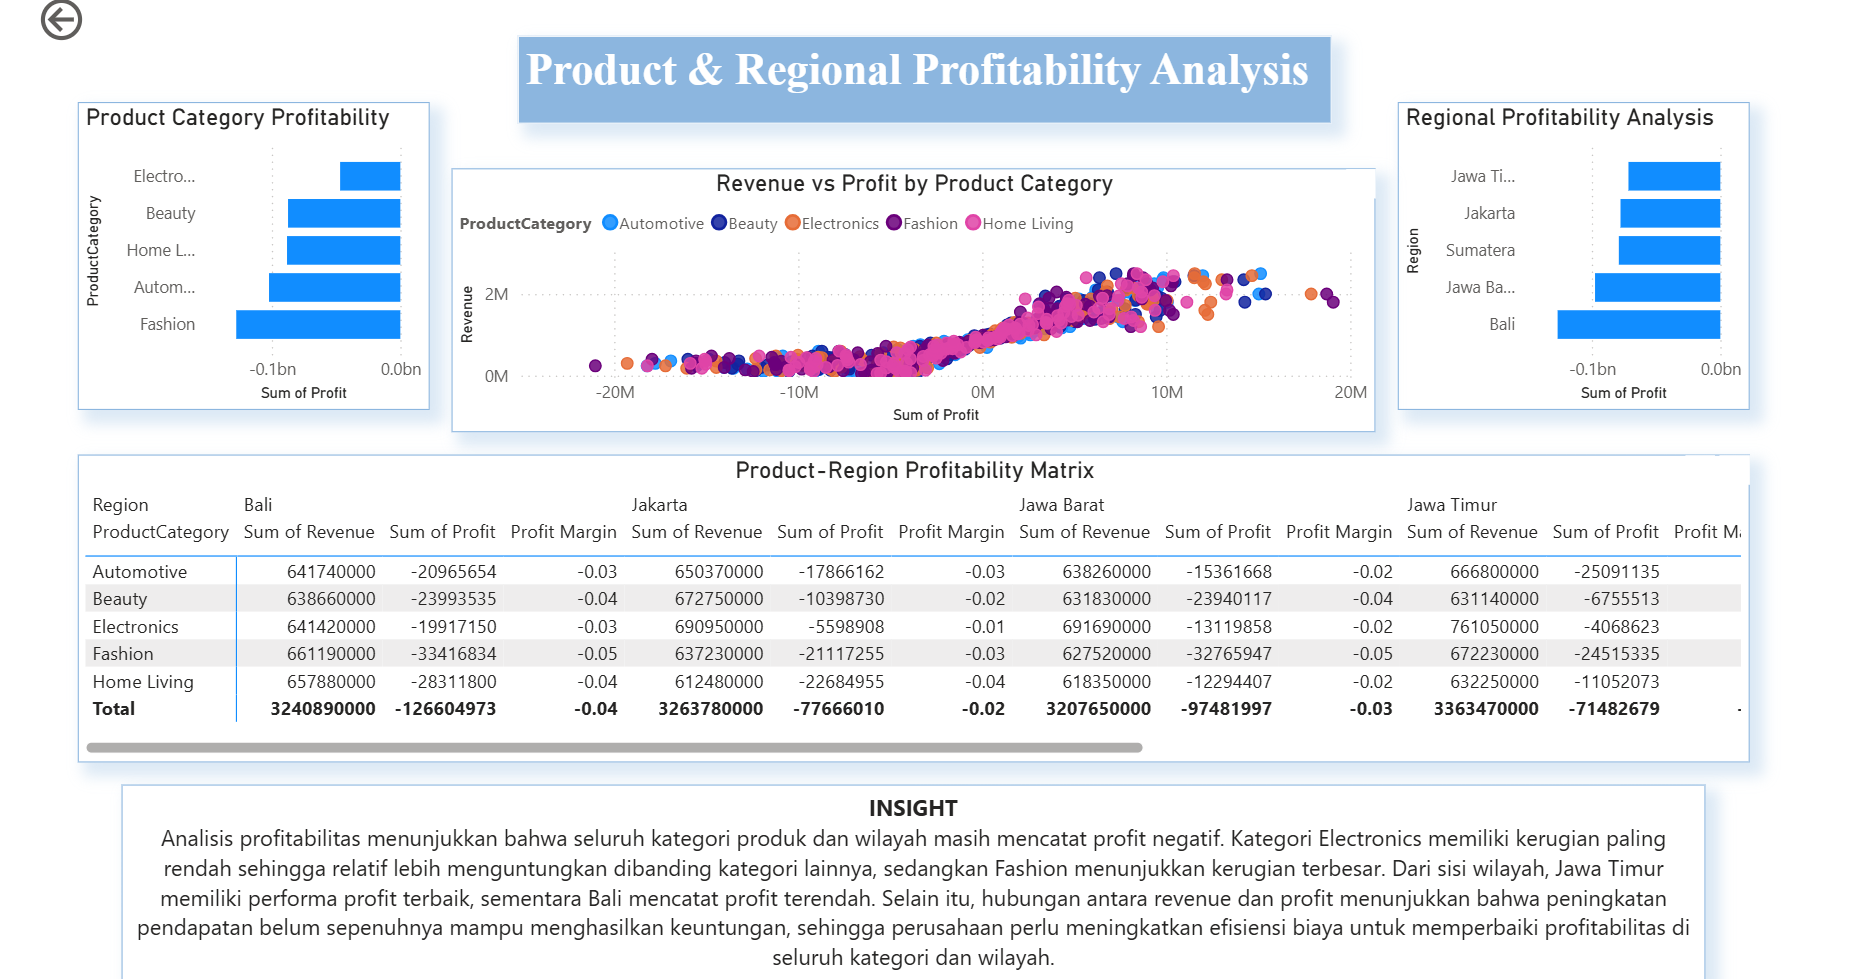

The page's visual inventory and layout, read from the dashboard file:
{"tool":"powerbi","page":{"name":"PROFITABILITY ANALYSIS","canvas":[1280,720],"ordinal":4},"visuals":[{"type":"barChart","title":"Product Category Profitability","fields":{"Category":["FINAL PROJECT.ProductCategory"],"Y":["Sum(FINAL PROJECT.Profit)"]},"box":[32,80,256,224],"z":0},{"type":"barChart","title":"Regional Profitability Analysis","fields":{"Category":["FINAL PROJECT.Region"],"Y":["Sum(FINAL PROJECT.Profit)"]},"box":[992,80,256,224],"z":1000},{"type":"scatterChart","title":"Revenue vs Profit by Product Category","fields":{"X":["Sum(FINAL PROJECT.Profit)"],"Series":["FINAL PROJECT.ProductCategory"],"Y":["FINAL PROJECT.Revenue"]},"box":[304,128,672,192],"z":2000},{"type":"pivotTable","title":"Product-Region Profitability Matrix","fields":{"Rows":["FINAL PROJECT.ProductCategory"],"Columns":["FINAL PROJECT.Region"],"Values":["Sum(FINAL PROJECT.Revenue)","Sum(FINAL PROJECT.Profit)","FINAL PROJECT.Profit Margin"]},"box":[32,336,1216,224],"z":3000},{"type":"actionButton","box":[0,0,100,40],"z":4000},{"type":"textbox","box":[64,576,1152,144],"z":5000},{"type":"textbox","box":[352,32,592,64],"z":6000}]}

Visuals, with their boxes on the page's 1280x720 design canvas (x1, y1, x2, y2). These are canvas units, not pixel positions in the 1851x979 screenshot, which may show the page scaled, cropped or inside an application window:
"Product Category Profitability" barChart: region(32, 80, 288, 304)
"Regional Profitability Analysis" barChart: region(992, 80, 1248, 304)
"Revenue vs Profit by Product Category" scatterChart: region(304, 128, 976, 320)
"Product-Region Profitability Matrix" pivotTable: region(32, 336, 1248, 560)
actionButton: region(0, 0, 100, 40)
textbox: region(64, 576, 1216, 720)
textbox: region(352, 32, 944, 96)
